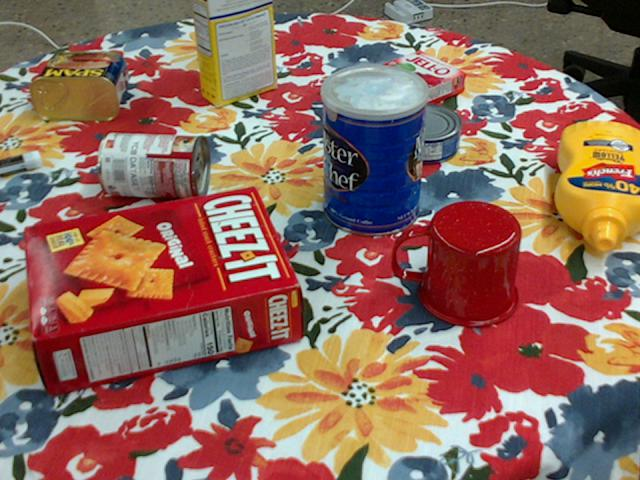cracker_box: (25, 188, 300, 396)
gelatin_box: (376, 52, 463, 109)
large_marker: (0, 150, 42, 175)
master_chef_can: (320, 65, 427, 238)
mug: (392, 200, 520, 328)
mustard_bottle: (553, 119, 639, 250)
potted_meat_can: (30, 51, 128, 120)
sugar_box: (193, 0, 276, 104)
tomato_soup_can: (97, 133, 208, 199)
tuna_fish_can: (386, 103, 461, 164)
